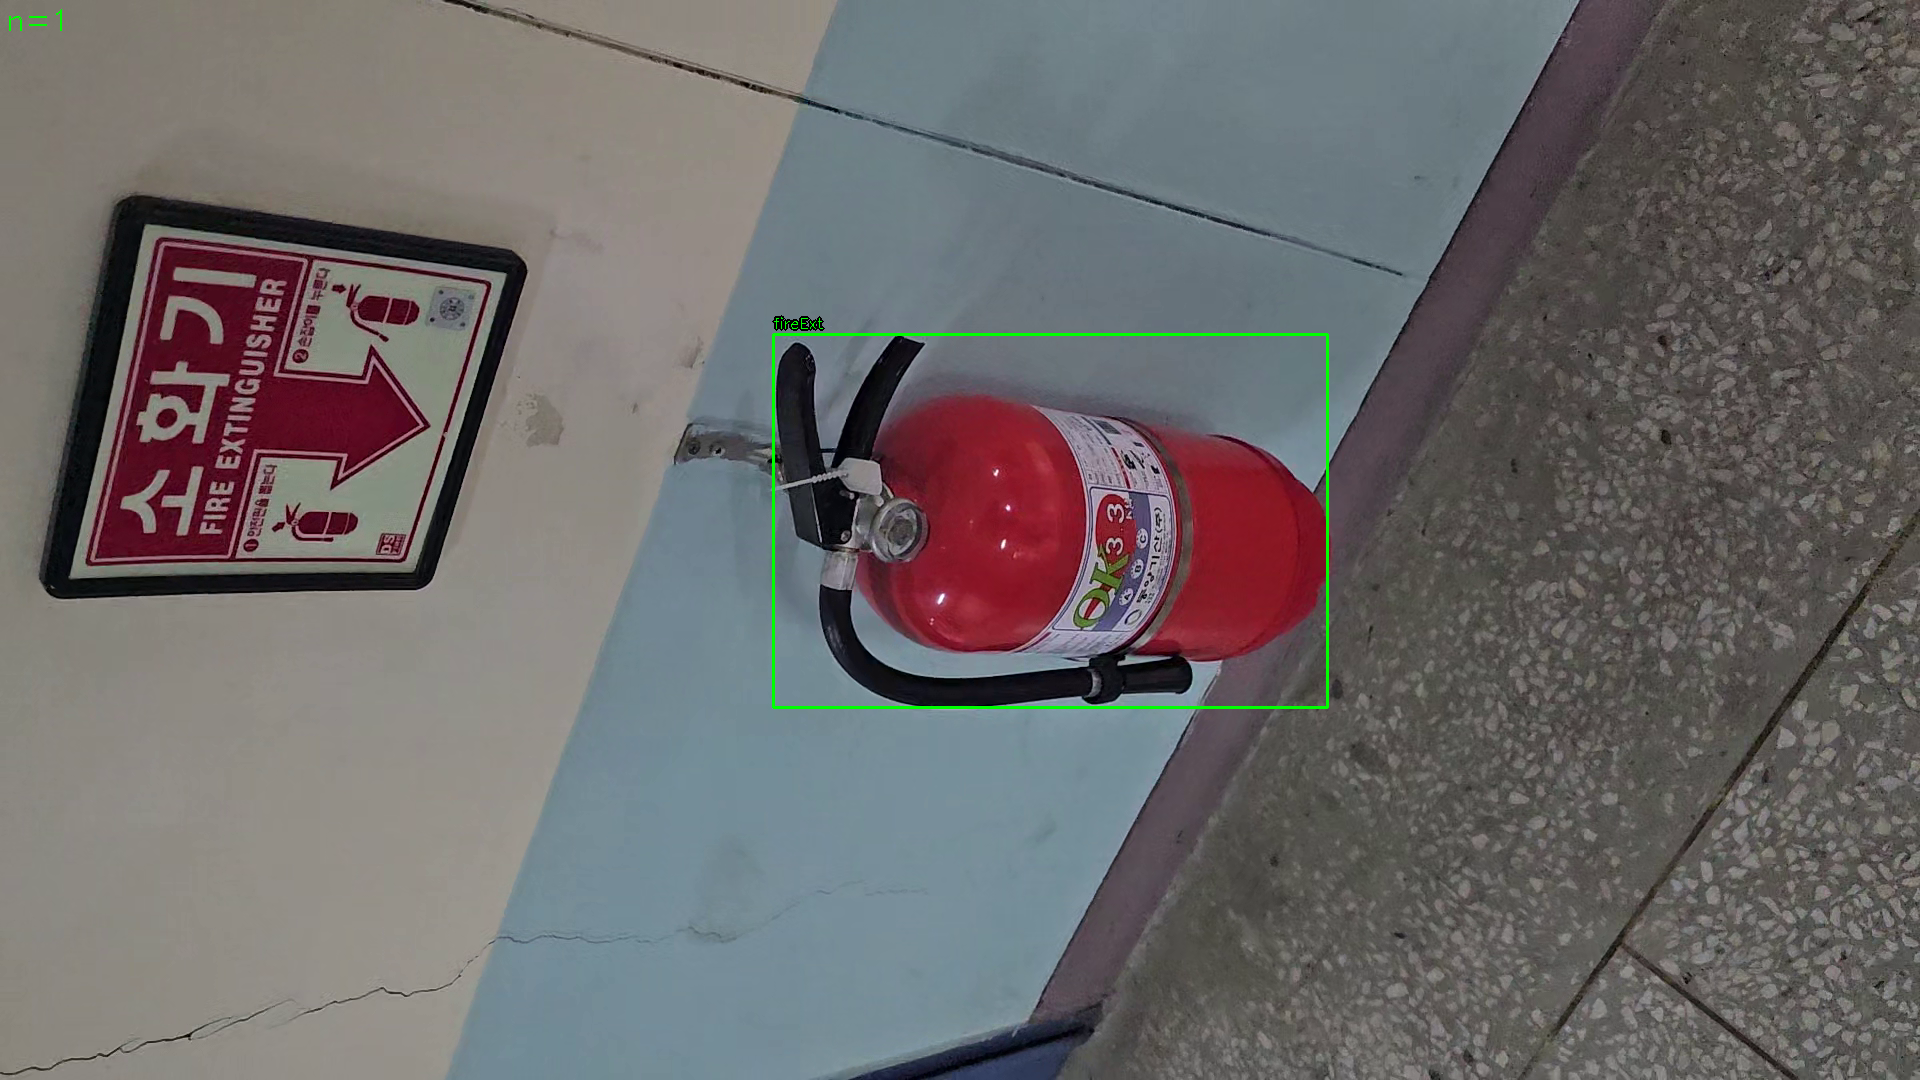lane: (773, 334, 1328, 708)
